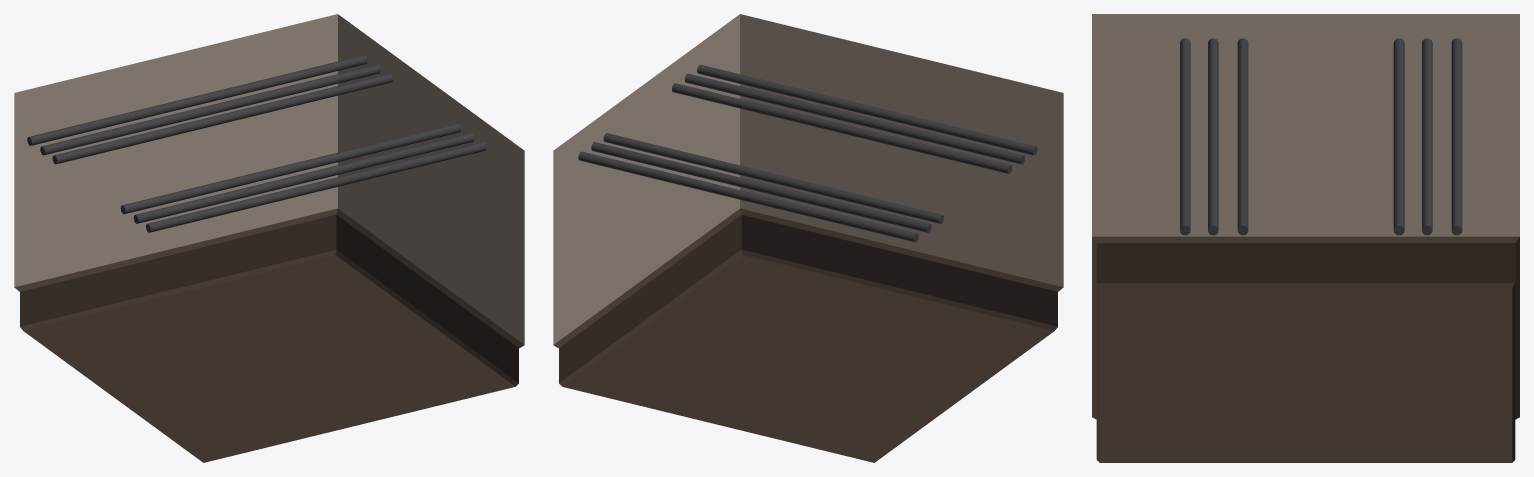
The model's file is simple_room.gltf.
The picture shows the model from 3 angles, left to right: view 1: azimuth 30°, elevation 25°; view 2: azimuth 150°, elevation 25°; view 3: azimuth 270°, elevation 25°; orthographic projection. The views are drawn at different scales.
Visible parts, largest first — view 1: Cube, Lower Wall, Cylinder, Cylinder.001; view 2: Cube, Lower Wall, Cylinder, Cylinder.001; view 3: Lower Wall, Cube, Cylinder, Cylinder.001.
Boxes of the visible parts, <box> form: Cube: <box>14,14,524,344</box>; Lower Wall: <box>14,208,524,462</box>; Cylinder: <box>27,55,392,164</box>; Cylinder.001: <box>120,123,486,232</box>; Cube: <box>553,14,1063,344</box>; Lower Wall: <box>553,208,1063,462</box>; Cylinder: <box>578,133,943,242</box>; Cylinder.001: <box>672,64,1037,173</box>; Lower Wall: <box>1092,236,1519,462</box>; Cube: <box>1092,14,1519,236</box>; Cylinder: <box>1393,38,1462,235</box>; Cylinder.001: <box>1180,38,1248,235</box>.
Size of the model in its own units: 8.6 by 5.66 by 8.
